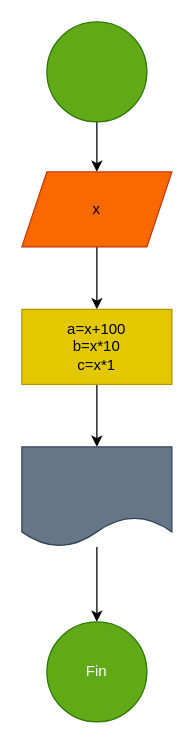
Some shapes in this 194 by 744 pixel diagram are drawn without their labels. Here are the shapes that lost their labels. From the top down, the centre of each, then its label:
point 96,71: Inicio
point 96,496: a,b,c
